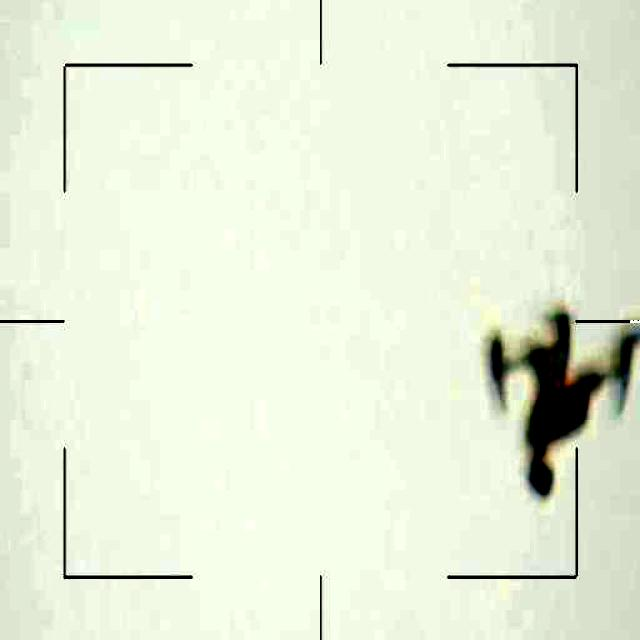bird: (470, 284, 640, 491)
